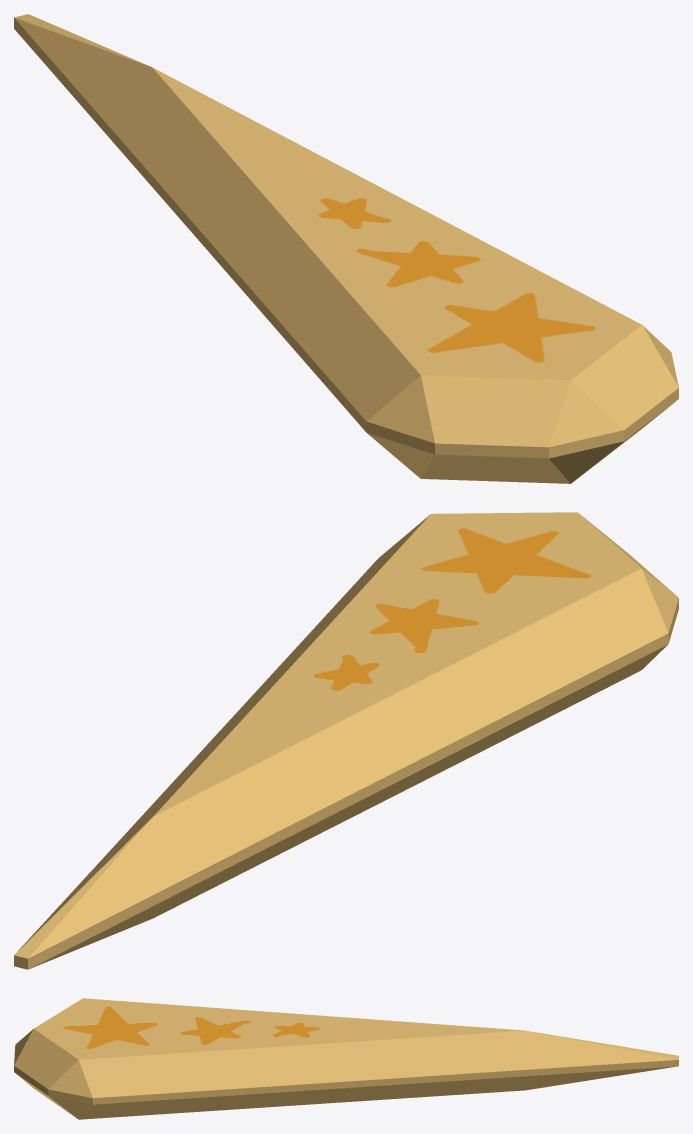
The model's file is flapper.glb.
The picture shows the model from 3 angles, top to bottom: view 1: azimuth 30°, elevation 25°; view 2: azimuth 150°, elevation 25°; view 3: azimuth 270°, elevation 25°; orthographic projection. The views are drawn at different scales.
Parts seen in each view (by area): view 1: Cube; view 2: Cube; view 3: Cube.
Part boxes in pixels (<box>): Cube: <box>14,14,678,483</box>; Cube: <box>14,512,678,969</box>; Cube: <box>14,998,678,1119</box>.
Size of the model in its own units: 1.91 by 0.6313 by 6.34.
1 material, 1 textured.
